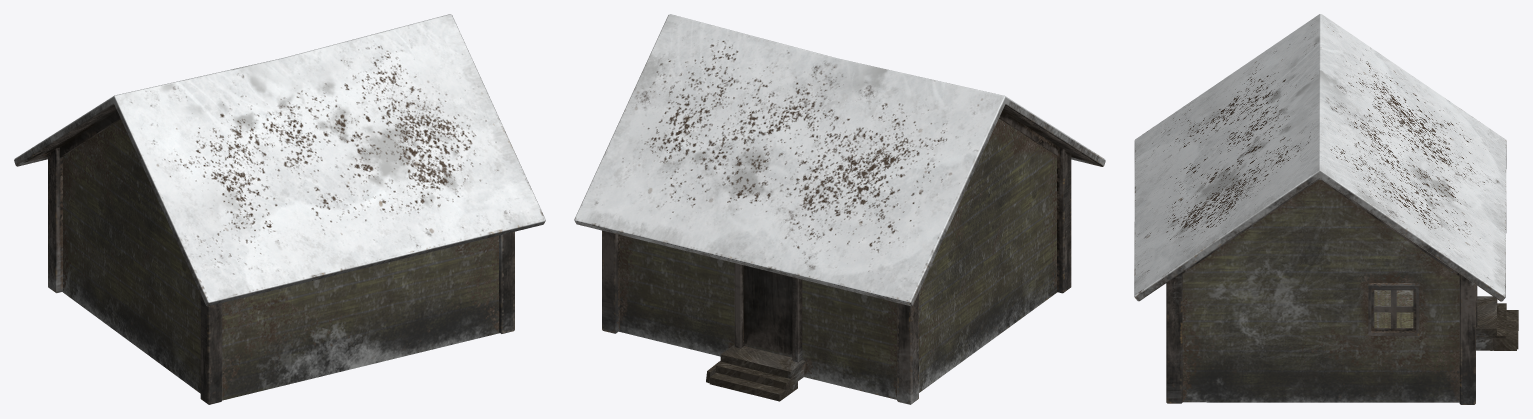
Rendered from TownCabin.glb.
3 renders of one model, left to right at view 1: azimuth 30°, elevation 25°; view 2: azimuth 150°, elevation 25°; view 3: azimuth 270°, elevation 25°, orthographic. The views are drawn at different scales.
Visible parts, largest first — view 1: House; view 2: House; view 3: House.
Part boxes in pixels (x1,y1,x2,y2): House: (14,14,545,404); House: (574,14,1105,404); House: (1134,14,1518,404).
Bounding box in the file's own units: 6.94 × 5.03 × 7.11.
1 material, 1 textured.
